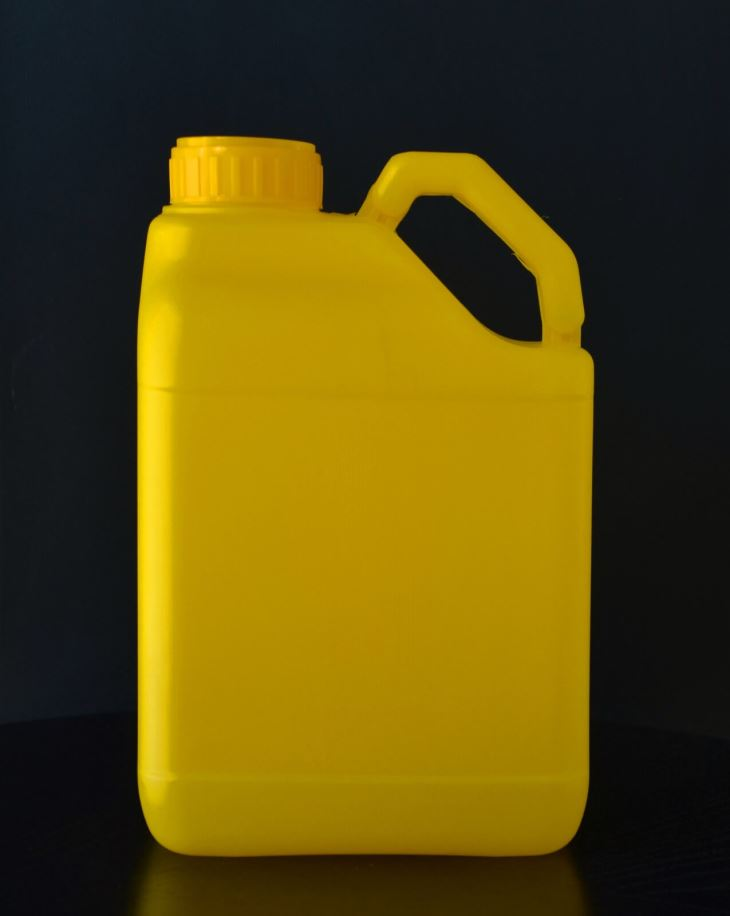Insecticide: (126, 131, 606, 869)
